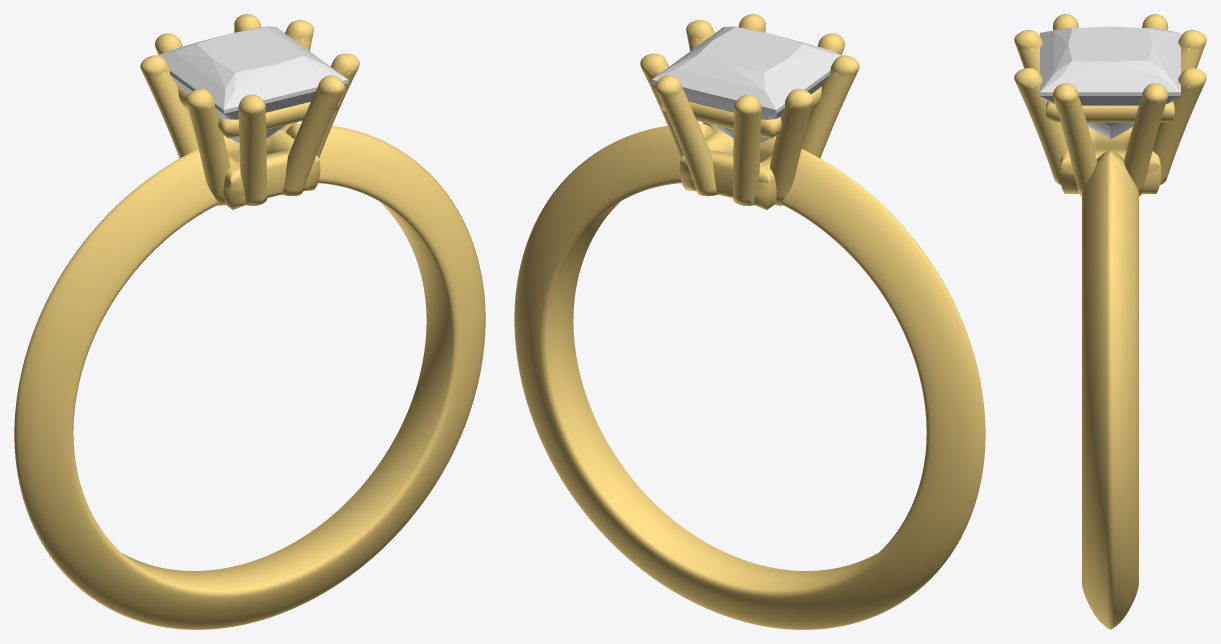
Rendered from diamond-princess-yellowgold-8prong-knifeedge-solitaire.glb.
The picture shows the model from 3 angles, left to right: view 1: azimuth 30°, elevation 25°; view 2: azimuth 150°, elevation 25°; view 3: azimuth 270°, elevation 25°; orthographic projection. The views are drawn at different scales.
Visible parts, largest first — view 1: metal, stone; view 2: metal, stone; view 3: metal, stone.
Part boxes in pixels (box(x1,y1,x2,y2)): metal: box(14, 14, 485, 629); stone: box(157, 26, 348, 142); metal: box(514, 14, 985, 629); stone: box(651, 26, 842, 142); metal: box(1014, 14, 1206, 629); stone: box(1040, 26, 1180, 139).
Bounding box in the file's own units: 20.51 × 23.85 × 7.42.
